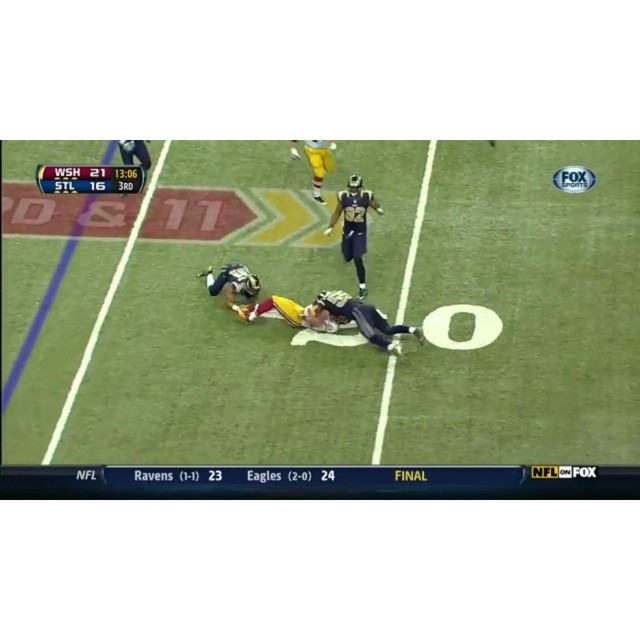american-football-player: (314, 287, 430, 359), (322, 174, 385, 299), (290, 140, 337, 202)
